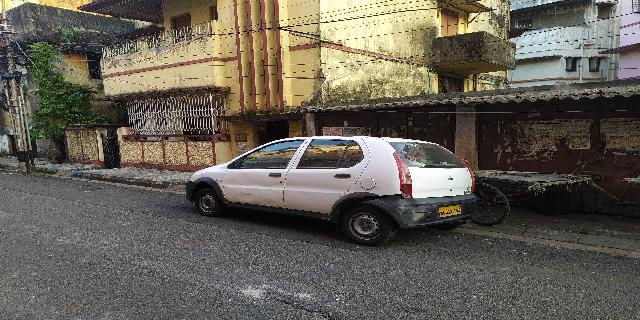Car: (182, 132, 479, 247)
